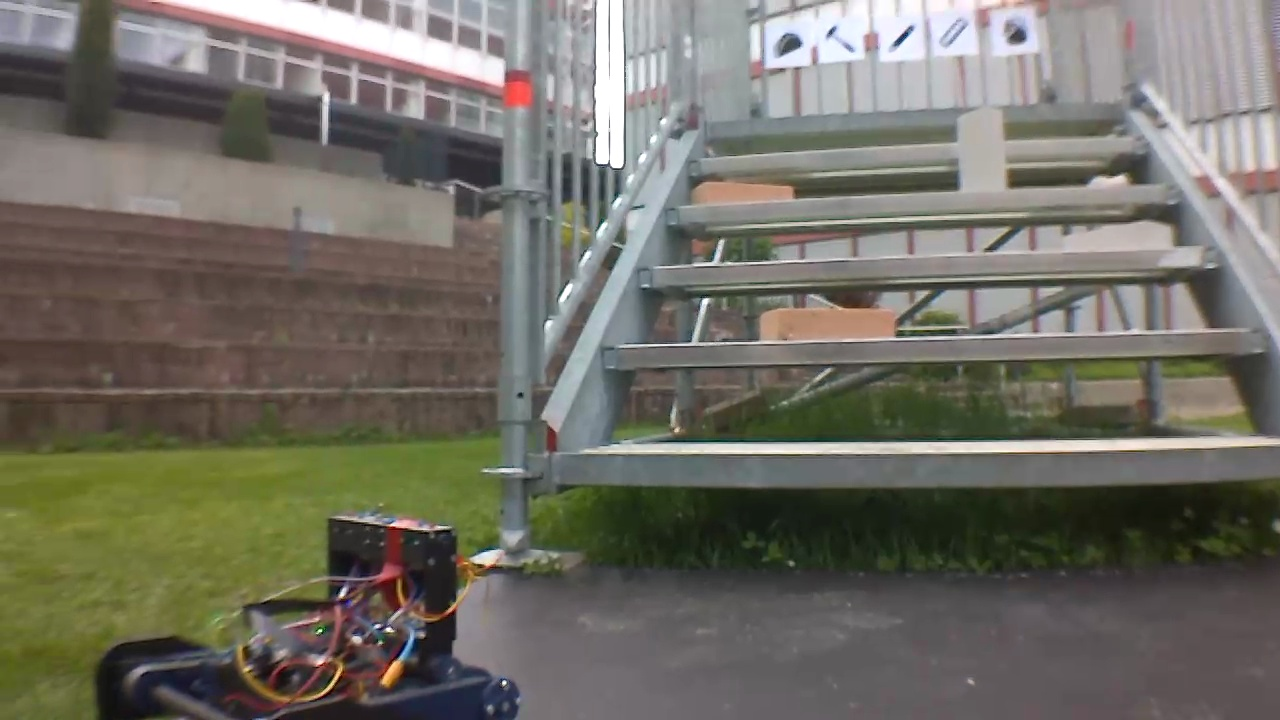brick: (761, 308, 892, 341), (958, 108, 1005, 189), (1067, 221, 1172, 246), (693, 183, 792, 203)
bucket: (995, 14, 1029, 47)
edge: (558, 442, 1280, 484), (636, 246, 1222, 286), (604, 329, 1264, 362), (665, 186, 1179, 220), (687, 137, 1150, 171), (704, 103, 1123, 131)
hammer: (822, 23, 858, 54)
pencil: (879, 21, 919, 57)
ruler: (935, 14, 970, 52)
stairs: (499, 4, 1280, 564)
steps: (552, 95, 1278, 494)
taco: (772, 26, 806, 60)
